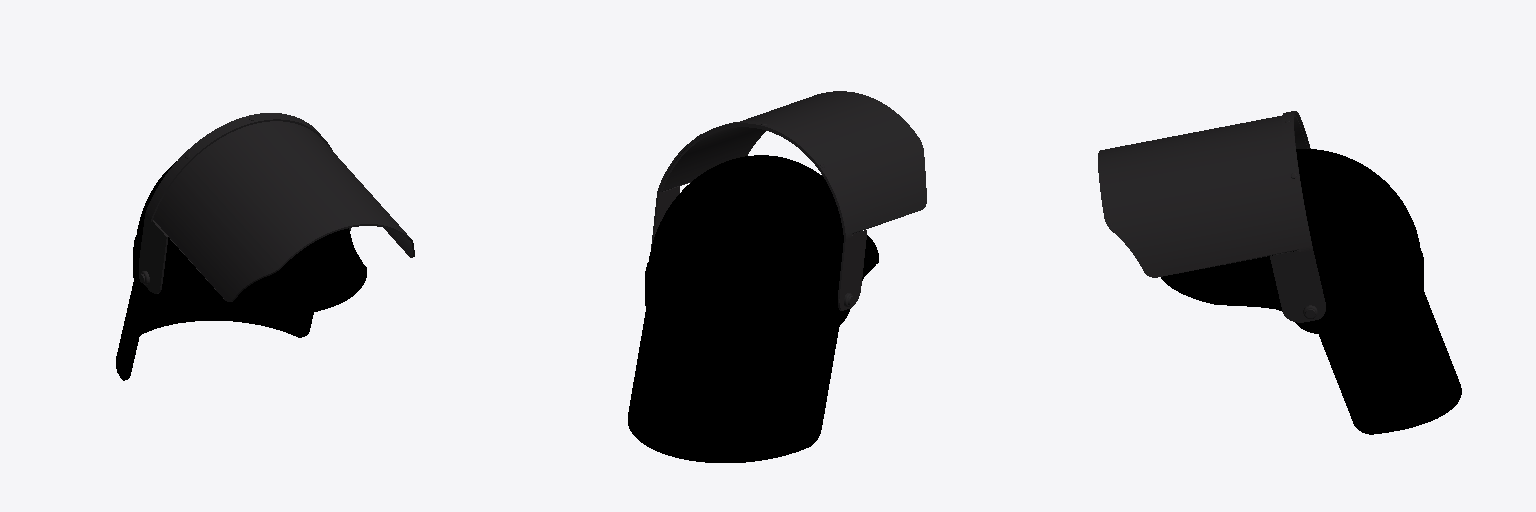
The model's file is helmet.obj.
The picture shows the model from 3 angles: view 1: azimuth 30°, elevation 25°; view 2: azimuth 150°, elevation 25°; view 3: azimuth 270°, elevation 25°; orthographic projection.
Parts seen in each view (by area): view 1: Cylinder, Sphere; view 2: Sphere, Cylinder; view 3: Sphere, Cylinder.
Boxes of the visible parts, <box> form: Cylinder: <box>139,113,414,301</box>; Sphere: <box>116,161,366,380</box>; Sphere: <box>628,155,878,462</box>; Cylinder: <box>651,91,926,310</box>; Sphere: <box>1161,149,1461,434</box>; Cylinder: <box>1098,111,1325,322</box>.
Size of the model in its own units: 1.92 by 2.5 by 3.05.